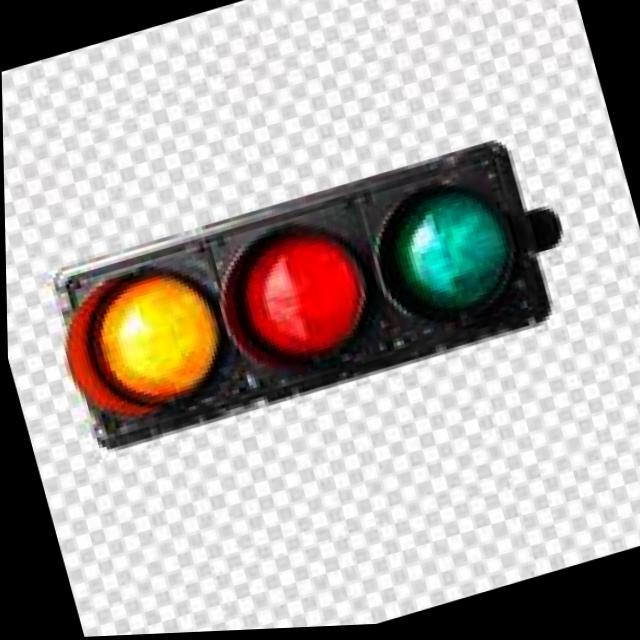green_light: (340, 139, 561, 358)
red_light: (199, 154, 399, 406)
yellow_light: (48, 202, 266, 500)
